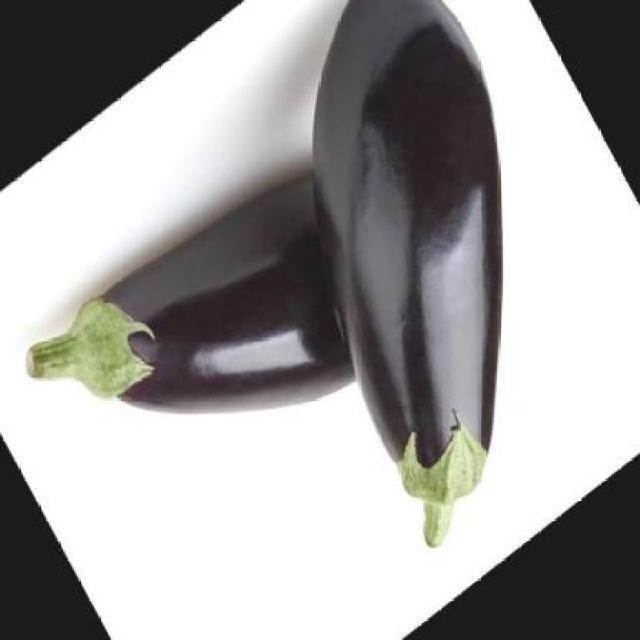eggplant: (303, 0, 512, 553), (28, 156, 386, 421)
